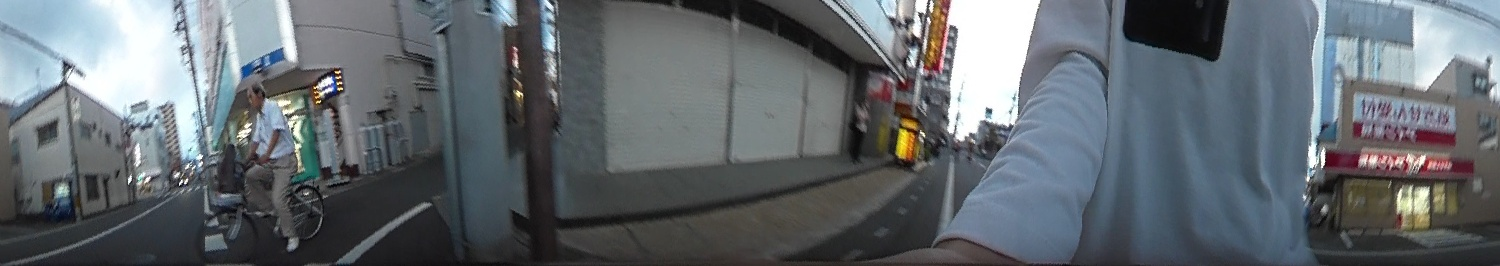difficult_person: (847, 98, 873, 167)
person: (233, 83, 310, 256)
